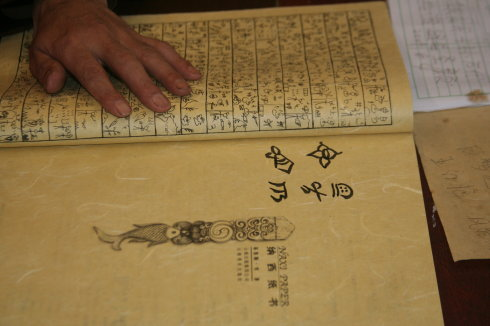naxi: (262, 139, 356, 204)
